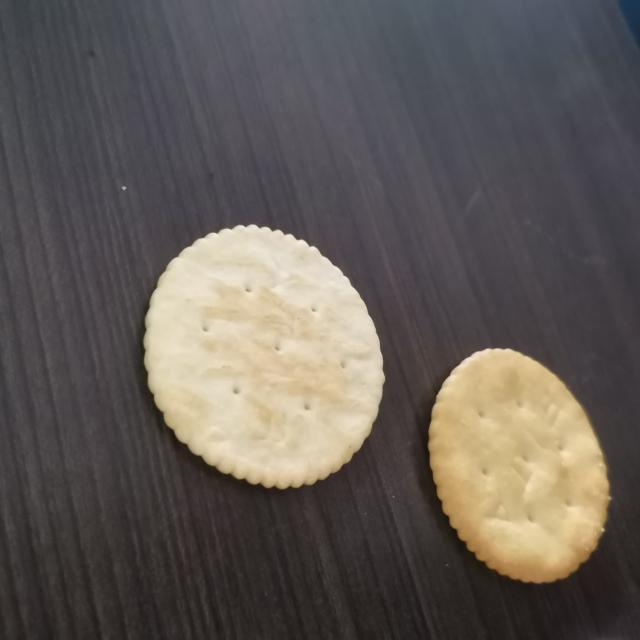Intact: (134, 214, 392, 501), (416, 336, 621, 600)
